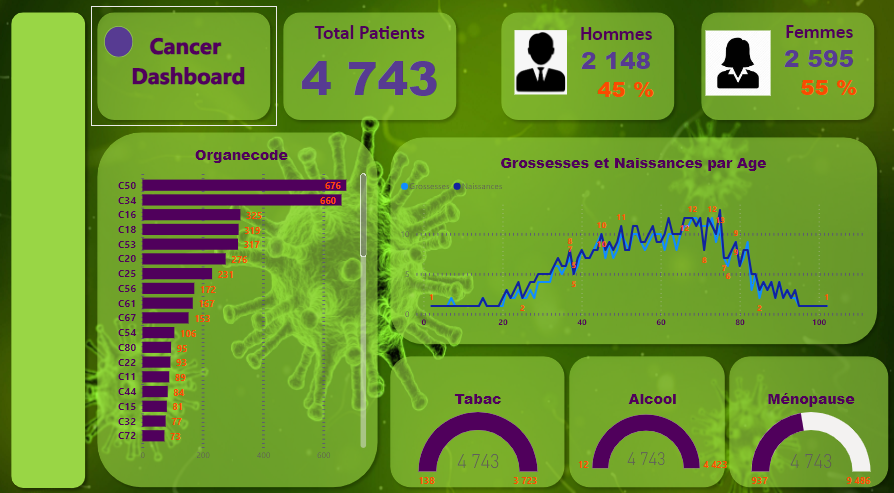

This screenshot's page, from the dashboard's own definition file:
{"tool":"powerbi","page":{"name":"Page 1","canvas":[1280,720],"ordinal":0},"visuals":[{"type":"shape","box":[9.9,9.9,123.3,697.3],"z":0},{"type":"shape","box":[133.3,10,265,171.7],"z":1000},{"type":"shape","box":[398.3,10,265,171.7],"z":2000},{"type":"shape","box":[710,10,265,171.7],"z":3000},{"type":"shape","box":[995,10,265,171.7],"z":4000},{"type":"shape","box":[133.3,181.7,418.3,525],"z":5000},{"type":"shape","box":[1035,501.7,245,205],"z":6000},{"type":"shape","box":[551.7,501.7,266.7,205],"z":7000},{"type":"shape","box":[551.7,188.3,713.3,313.3],"z":8000},{"type":"shape","box":[806.7,501.7,240,205],"z":9000},{"type":"textbox","box":[165,38.3,215,116.7],"z":10000},{"type":"shape","box":[151.7,38.3,41.7,45],"z":12000},{"type":"card","title":"Total Patients","fields":{"Values":["All Measures.Total_Patient"]},"box":[420,30,221.7,123.3],"z":13000},{"type":"card","title":"Hommes","fields":{"Values":["All Measures.Male"]},"box":[813.3,31.7,140,76.7],"z":14000},{"type":"card","title":"Hommes","fields":{"Values":["All Measures.%Male"]},"box":[818.3,90,156.7,76.7],"z":15000},{"type":"card","title":"Femmes","fields":{"Values":["All Measures.Female"]},"box":[1103.3,28.3,140,76.7],"z":16000},{"type":"card","title":"Hommes","fields":{"Values":["All Measures.%Female"]},"box":[1108.3,86.7,156.7,76.7],"z":17000},{"type":"image","box":[733.3,21.7,85,138.3],"z":18000},{"type":"image","box":[1005,0,103.3,181.7],"z":19000},{"type":"barChart","title":"Organecode ","fields":{"Category":["data.organecode"],"Y":["All Measures.Total_Patient"]},"box":[165,208.3,366.7,461.7],"z":20000},{"type":"gauge","title":"Ménopause","fields":{"Y":["All Measures.Total_Patient"],"MinValue":["All Measures.Non Ménopause"]},"box":[1056.7,556.7,208.3,150],"z":21000},{"type":"gauge","title":"Tabac","fields":{"Y":["All Measures.Total_Patient"],"MinValue":["All Measures.Fumeur"],"MaxValue":["All Measures.Non Fumeur"]},"box":[591.7,556.7,188.3,150],"z":22000},{"type":"gauge","title":"Alcool","fields":{"Y":["All Measures.Total_Patient"],"MinValue":["All Measures.Buveur"],"MaxValue":["All Measures.Non buveur"]},"box":[818.3,556.7,233.3,126.7],"z":23000},{"type":"lineChart","title":"Grossesses et Naissances par Age","fields":{"Y":["Count(data.g)","Count(data.p)"],"Category":["data.Age"]},"box":[570,220,675,260],"z":24000}]}

Visuals, with their boxes in screenshot pixels (x1, y1, x2, y2), scaled from the page's 1280x720 canvas onto the 894x493 screenshot:
shape: BBox(7, 7, 93, 484)
shape: BBox(93, 7, 278, 124)
shape: BBox(278, 7, 463, 124)
shape: BBox(496, 7, 681, 124)
shape: BBox(695, 7, 880, 124)
shape: BBox(93, 124, 385, 484)
shape: BBox(723, 344, 893, 484)
shape: BBox(385, 344, 572, 484)
shape: BBox(385, 129, 884, 343)
shape: BBox(563, 344, 731, 484)
textbox: BBox(115, 26, 265, 106)
shape: BBox(106, 26, 135, 57)
"Total Patients" card: BBox(293, 21, 448, 105)
"Hommes" card: BBox(568, 22, 666, 74)
"Hommes" card: BBox(572, 62, 681, 114)
"Femmes" card: BBox(771, 19, 868, 72)
"Hommes" card: BBox(774, 59, 884, 112)
image: BBox(512, 15, 572, 110)
image: BBox(702, 0, 774, 124)
"Organecode " barChart: BBox(115, 143, 371, 459)
"Ménopause" gauge: BBox(738, 381, 884, 484)
"Tabac" gauge: BBox(413, 381, 545, 484)
"Alcool" gauge: BBox(572, 381, 734, 468)
"Grossesses et Naissances par Age" lineChart: BBox(398, 151, 870, 329)
